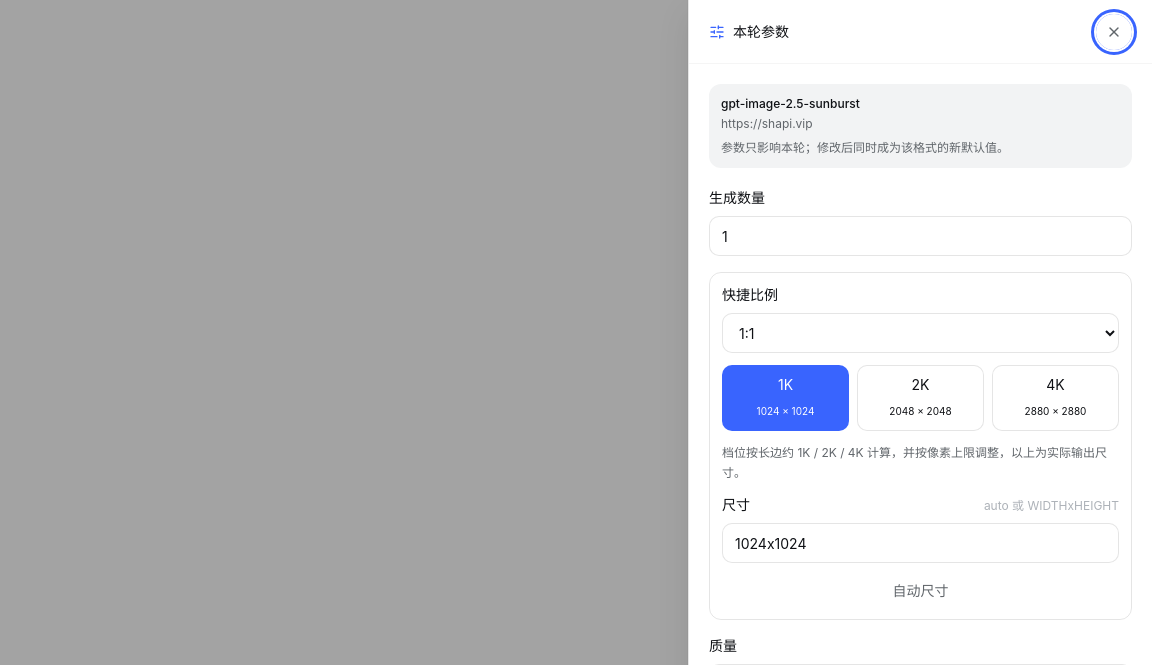
OpenAI image parameter controls › applies a 4K portrait preset and retains manual size input
Select "9:16" in the dropdown labelled "快捷比例" at {"x": 920, "y": 333}, box [722,313,1119,353]
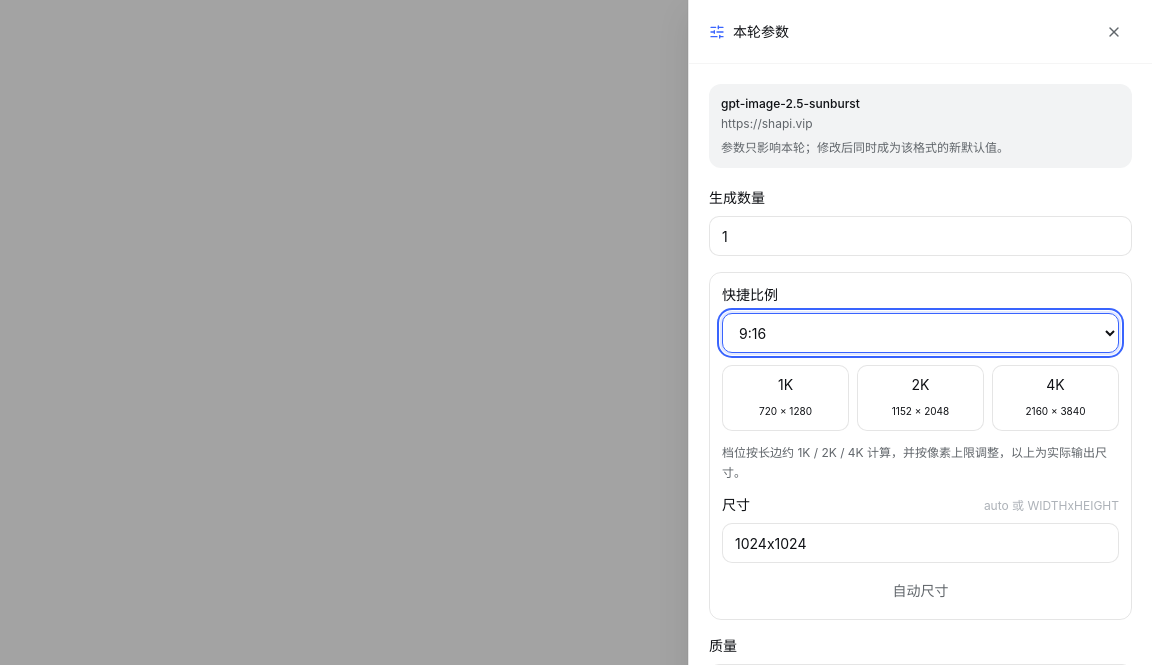
Click the button "4K 2160 × 3840".
click(1056, 398)  # box [992,365,1119,431]
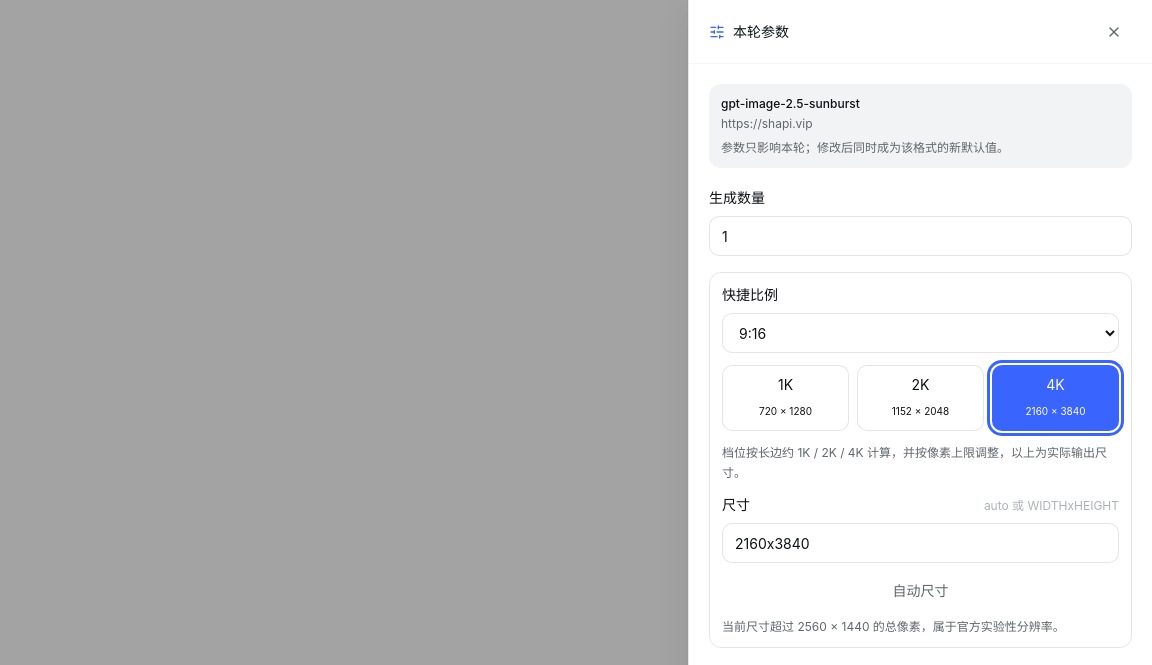
Expected: the field labelled "尺寸 auto 或 WIDTHxHEIGHT" holds "2160x3840"
Expected: the text "当前尺寸超过 2560 × 1440 的总像素，属于官方实验性分辨率。" is shown, [722,619,1119,635]
Replace the text in the field labelled "尺寸 auto 或 WIDTHxHEIGHT" with "1536x864" at {"x": 920, "y": 543}, box [722,523,1119,563]
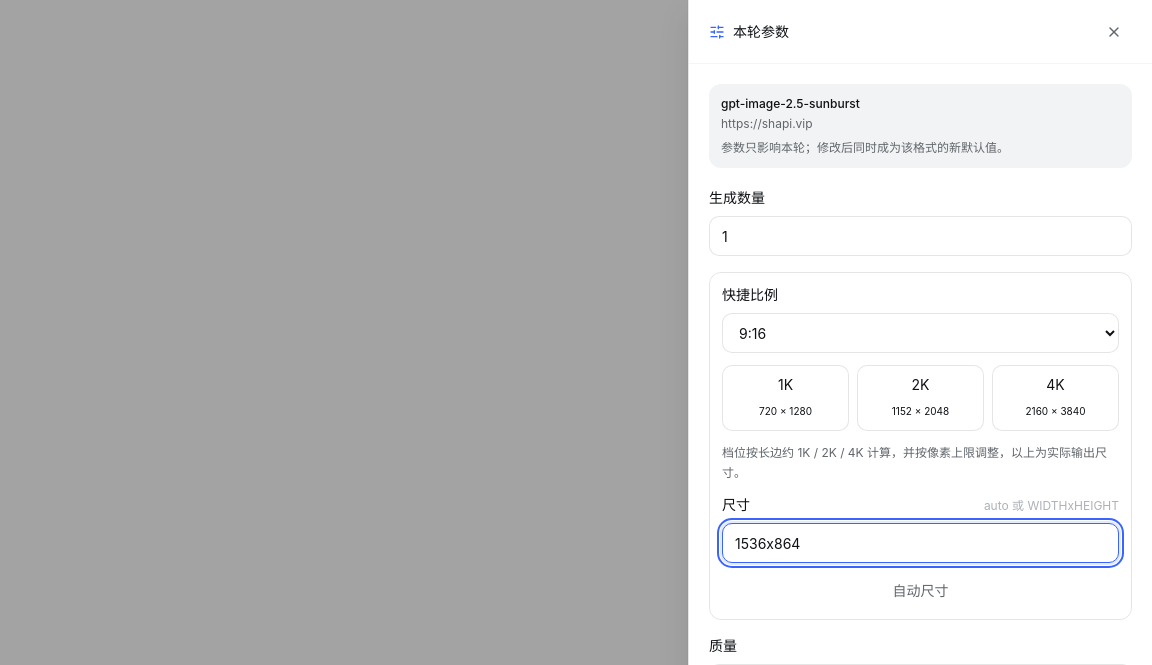
Click the button "自动尺寸".
click(920, 591)  # box [722,575,1119,607]
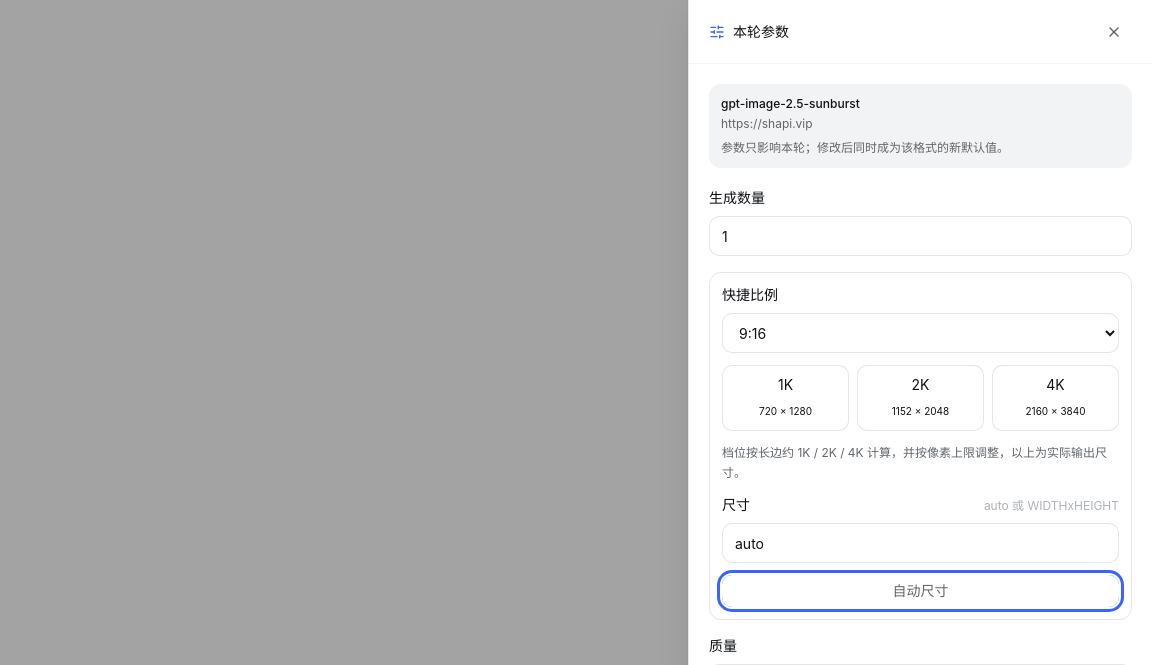
Expected: the field labelled "尺寸 auto 或 WIDTHxHEIGHT" holds "auto", [722,523,1119,563]
